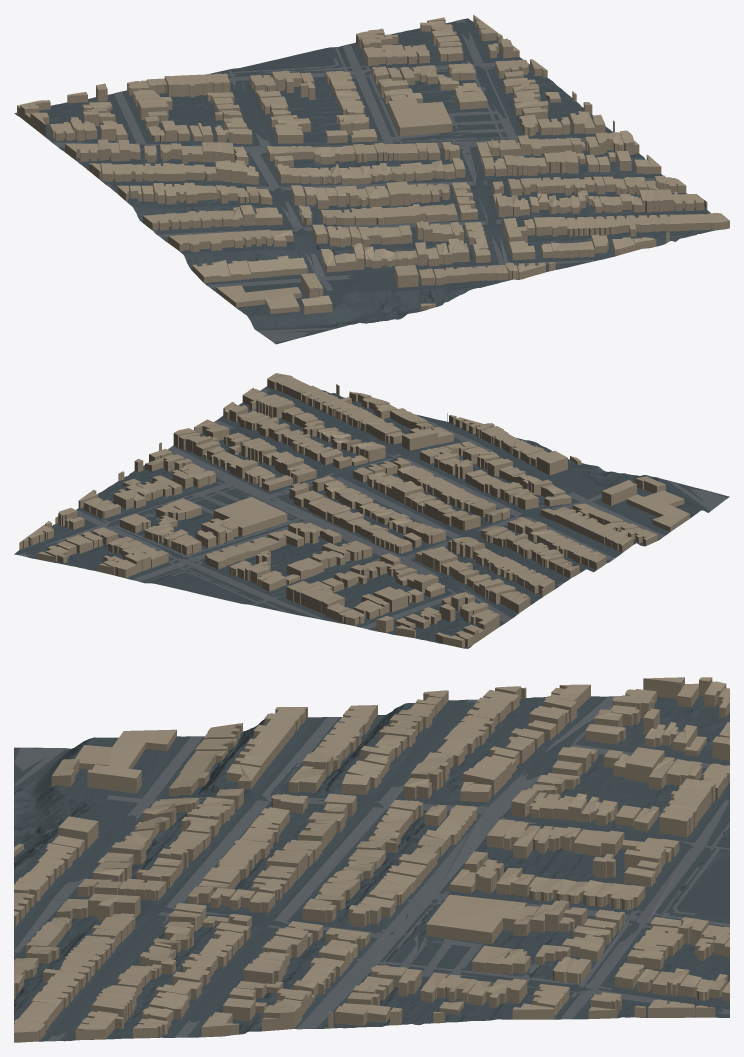
The model's file is epsg26910-1437-10875.lod0.glb.
The picture shows the model from 3 angles, top to bottom: view 1: azimuth 30°, elevation 25°; view 2: azimuth 150°, elevation 25°; view 3: azimuth 270°, elevation 25°; orthographic projection. The views are drawn at different scales.
Parts seen in each view (by area): view 1: epsg26910-1437-10875-lod0; view 2: epsg26910-1437-10875-lod0; view 3: epsg26910-1437-10875-lod0.
Part boxes in pixels (box(x1,y1,x2,y2)): epsg26910-1437-10875-lod0: box(14, 15, 729, 344); epsg26910-1437-10875-lod0: box(14, 373, 729, 648); epsg26910-1437-10875-lod0: box(14, 677, 729, 1042).
Bounding box in the file's own units: 384 × 45.81 × 384.
